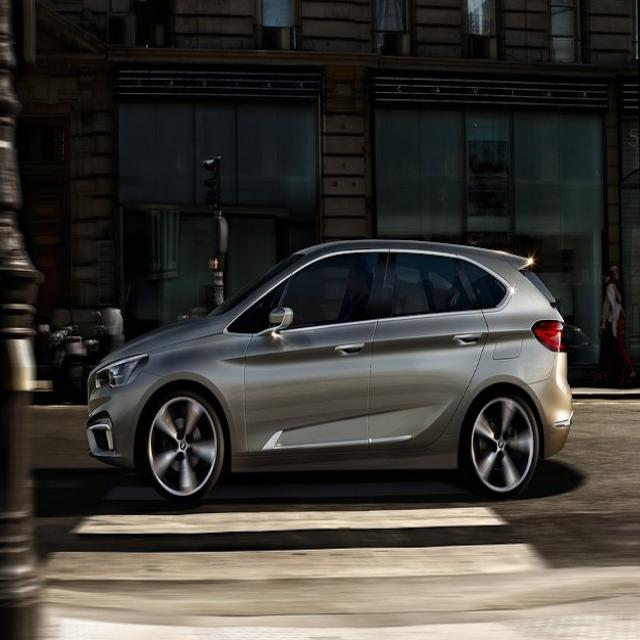back_left_side_light: (531, 317, 567, 355)
door: (369, 250, 490, 455)
front_bumper: (86, 369, 168, 470)
front_left_side_door: (242, 245, 391, 460)
front_left_side_light: (88, 349, 152, 402)
front_left_side_mirror: (270, 305, 294, 336)
rear_bumper: (519, 351, 575, 460)
wheel: (140, 383, 225, 500), (466, 387, 538, 498)
